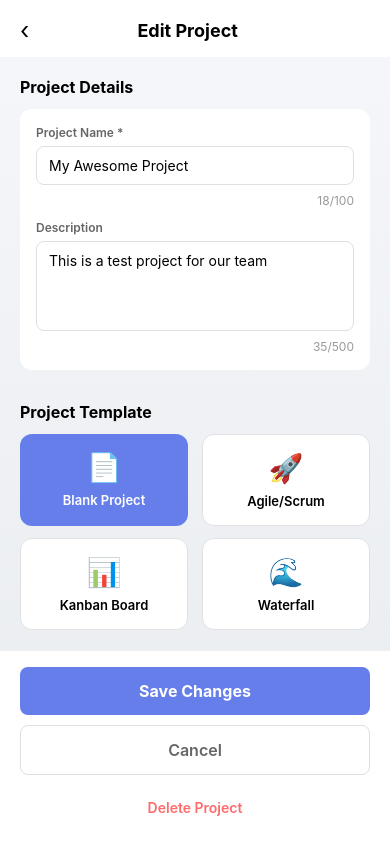
Test: EditProjectScreen › Form Validation › should clear error when user corrects input
The image size is (390, 844).
Clear the field with placeholder "Enter project name". click: (195, 166)
box: [36, 146, 354, 185]
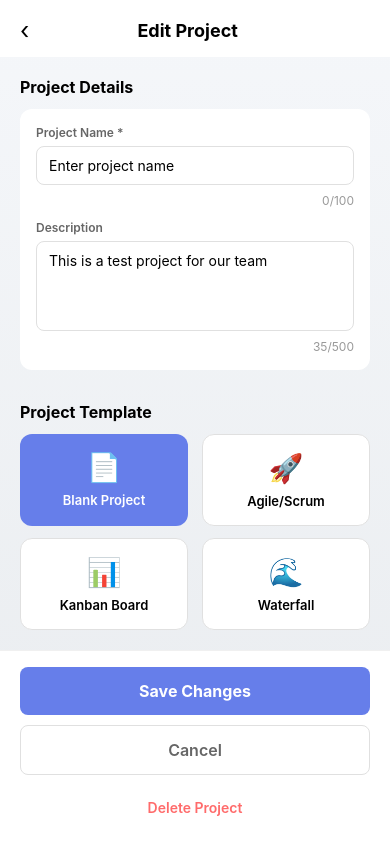
Click the text "Save Changes". click: (195, 691)
box: [139, 681, 251, 701]
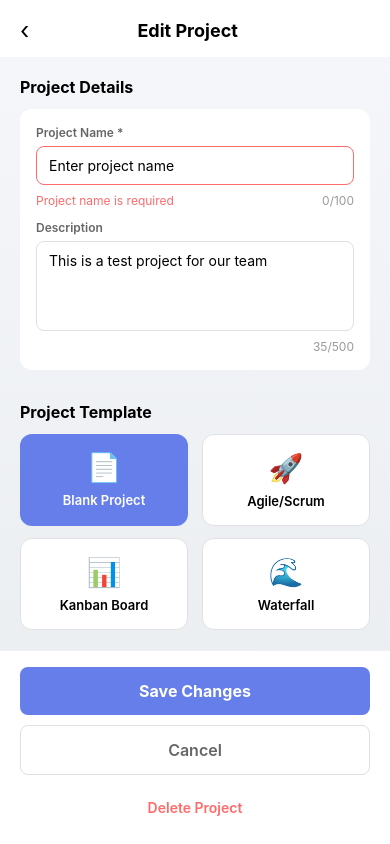
Expected: the text "Project name is required" is shown, [36, 193, 174, 208]
Type "Valid Project" into the field with placeholder "Enter project name". click: (195, 166)
box: [36, 146, 354, 185]
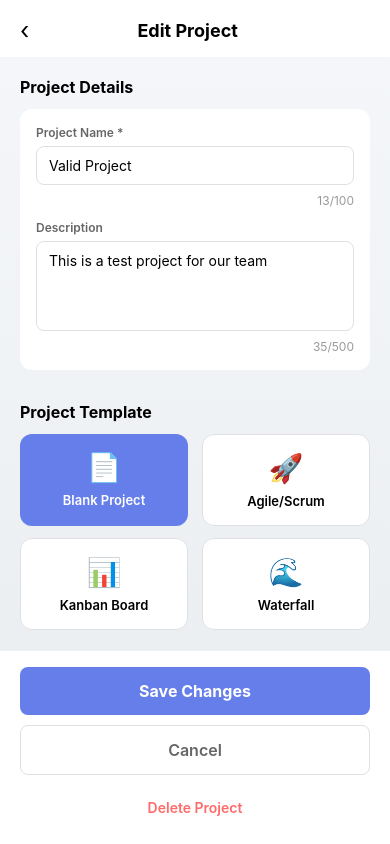
Expected: the text "Project name is required" is gone
